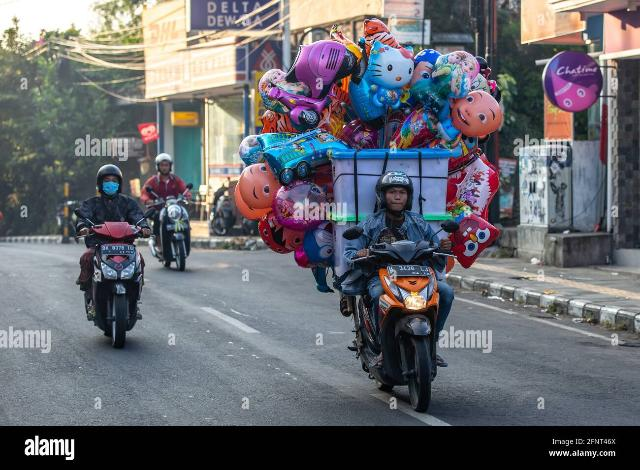helm: (377, 173, 417, 216), (98, 164, 127, 199), (156, 154, 175, 176)
motor: (341, 219, 472, 412), (77, 208, 156, 352), (147, 194, 196, 272)
